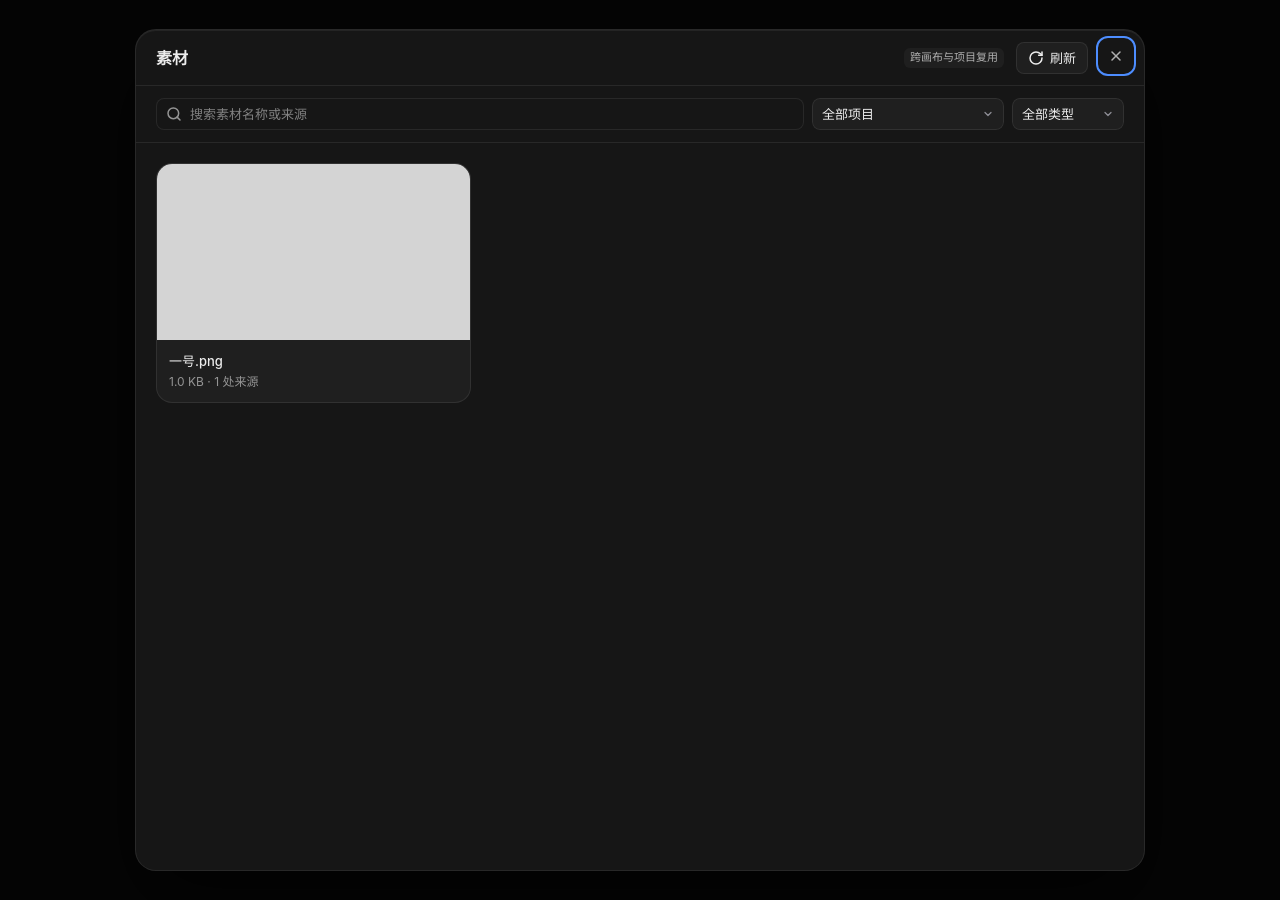
Test: 素材面板的只读与无画布状态 › 只读画布停用放入并说明原因，恢复可写后重新可用
This screenshot has width=1280, height=900.
// 没有画布时也停用，并说明要打开画布
Click the button with aria-label "查看素材 一号.png" at (313, 283), box x1=156 y1=163 x2=471 y2=403
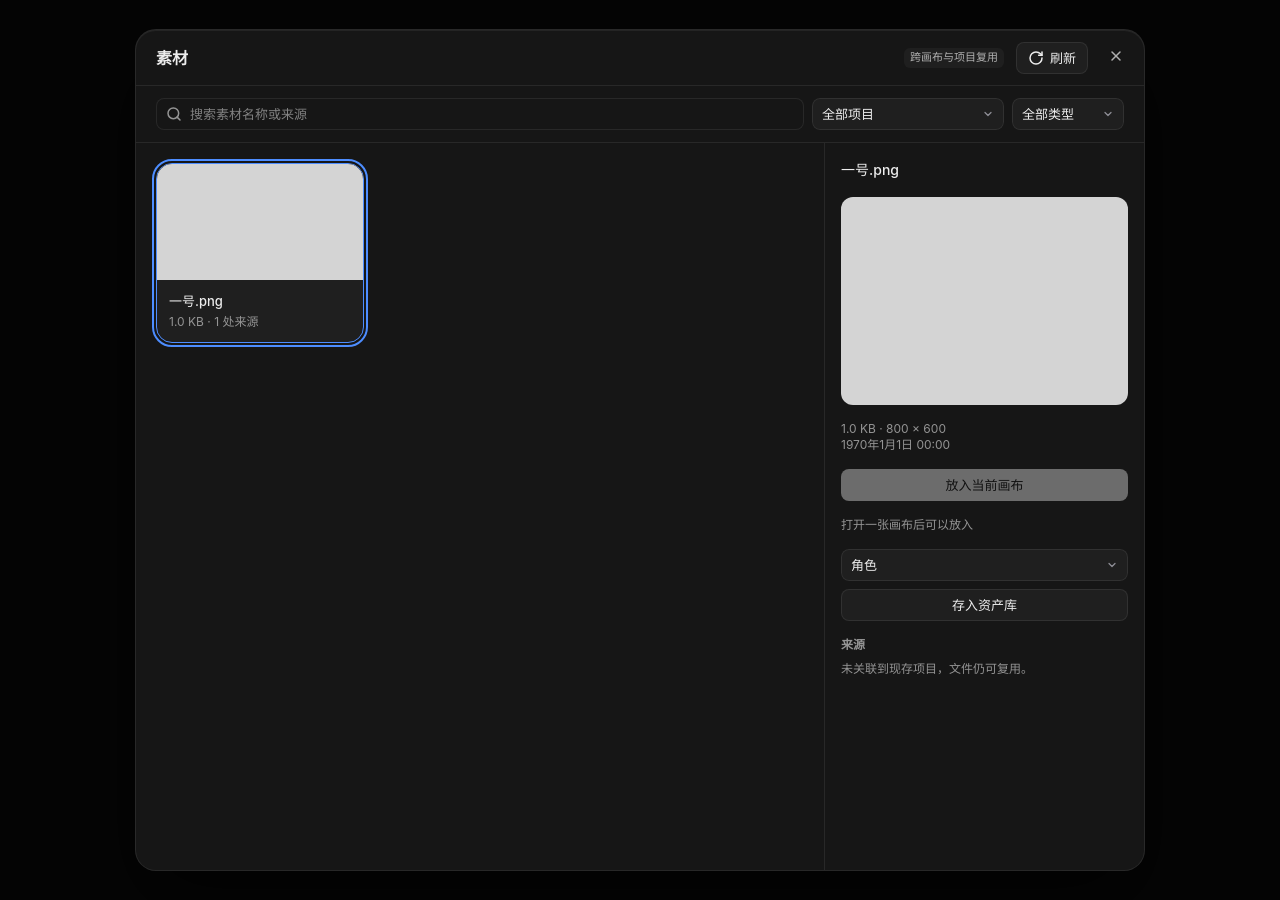
Expected: the button "放入当前画布" is disabled, x1=841 y1=469 x2=1128 y2=501
Expected: the text "打开一张画布后可以放入" is shown, x1=841 y1=517 x2=973 y2=532
